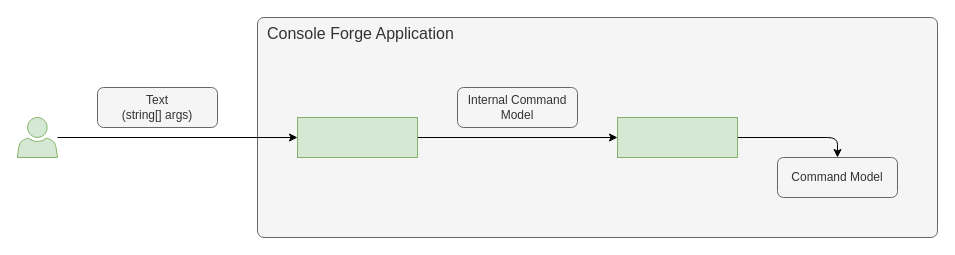
The diagram is 955 pixels wide and 255 high, and some of its shapes have lost their labels. Each missing label, with the box of its shape:
Command Parser: (296, 116, 418, 158)
Command Router: (616, 116, 738, 158)
